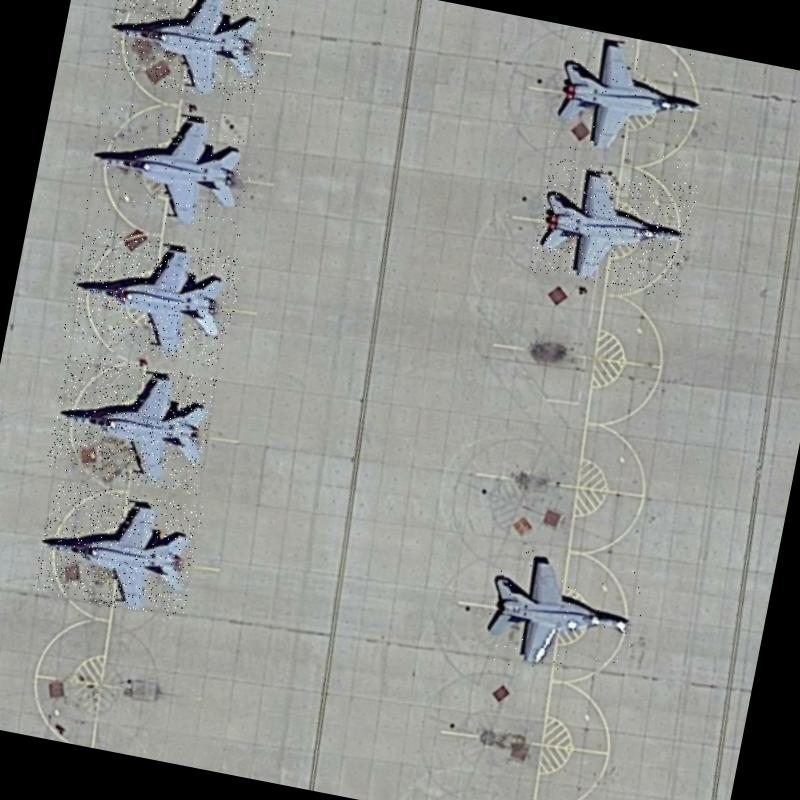A16: (80, 92, 262, 240), (62, 224, 245, 370), (471, 542, 651, 690), (538, 25, 718, 173), (44, 349, 218, 496), (528, 156, 698, 300), (32, 478, 204, 620), (101, 0, 279, 105)
